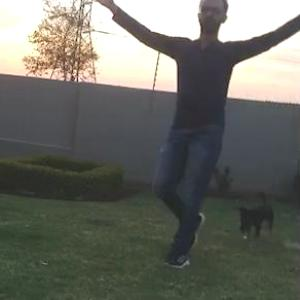takeoff: (92, 0, 294, 255)
